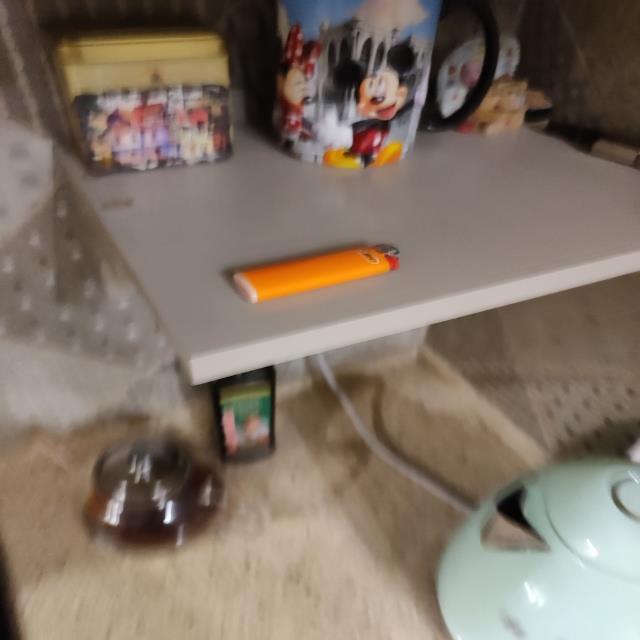lighter: (228, 245, 399, 303)
